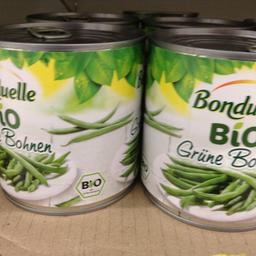beans: (0, 20, 146, 218), (150, 23, 255, 226)
